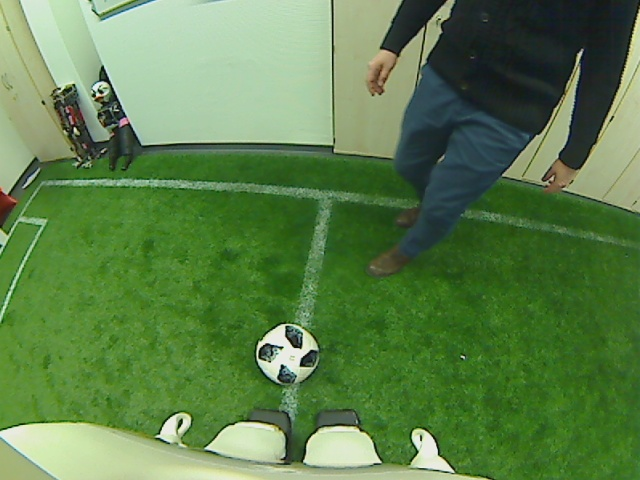ball: (253, 322, 323, 387)
